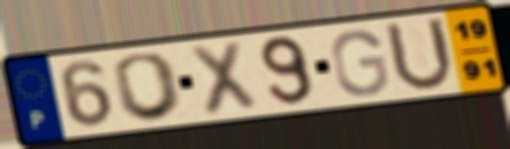6: (55, 57, 114, 131)
9: (258, 32, 317, 110)
G: (328, 27, 392, 99)
O: (111, 50, 188, 124)
U: (380, 15, 457, 95)
X: (186, 38, 262, 119)
